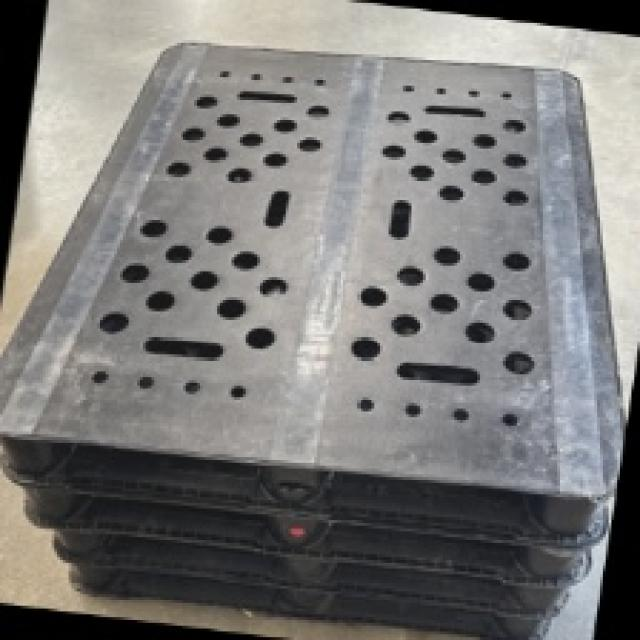igps: (0, 36, 632, 560), (0, 461, 600, 593), (40, 509, 577, 622), (46, 535, 560, 640)
